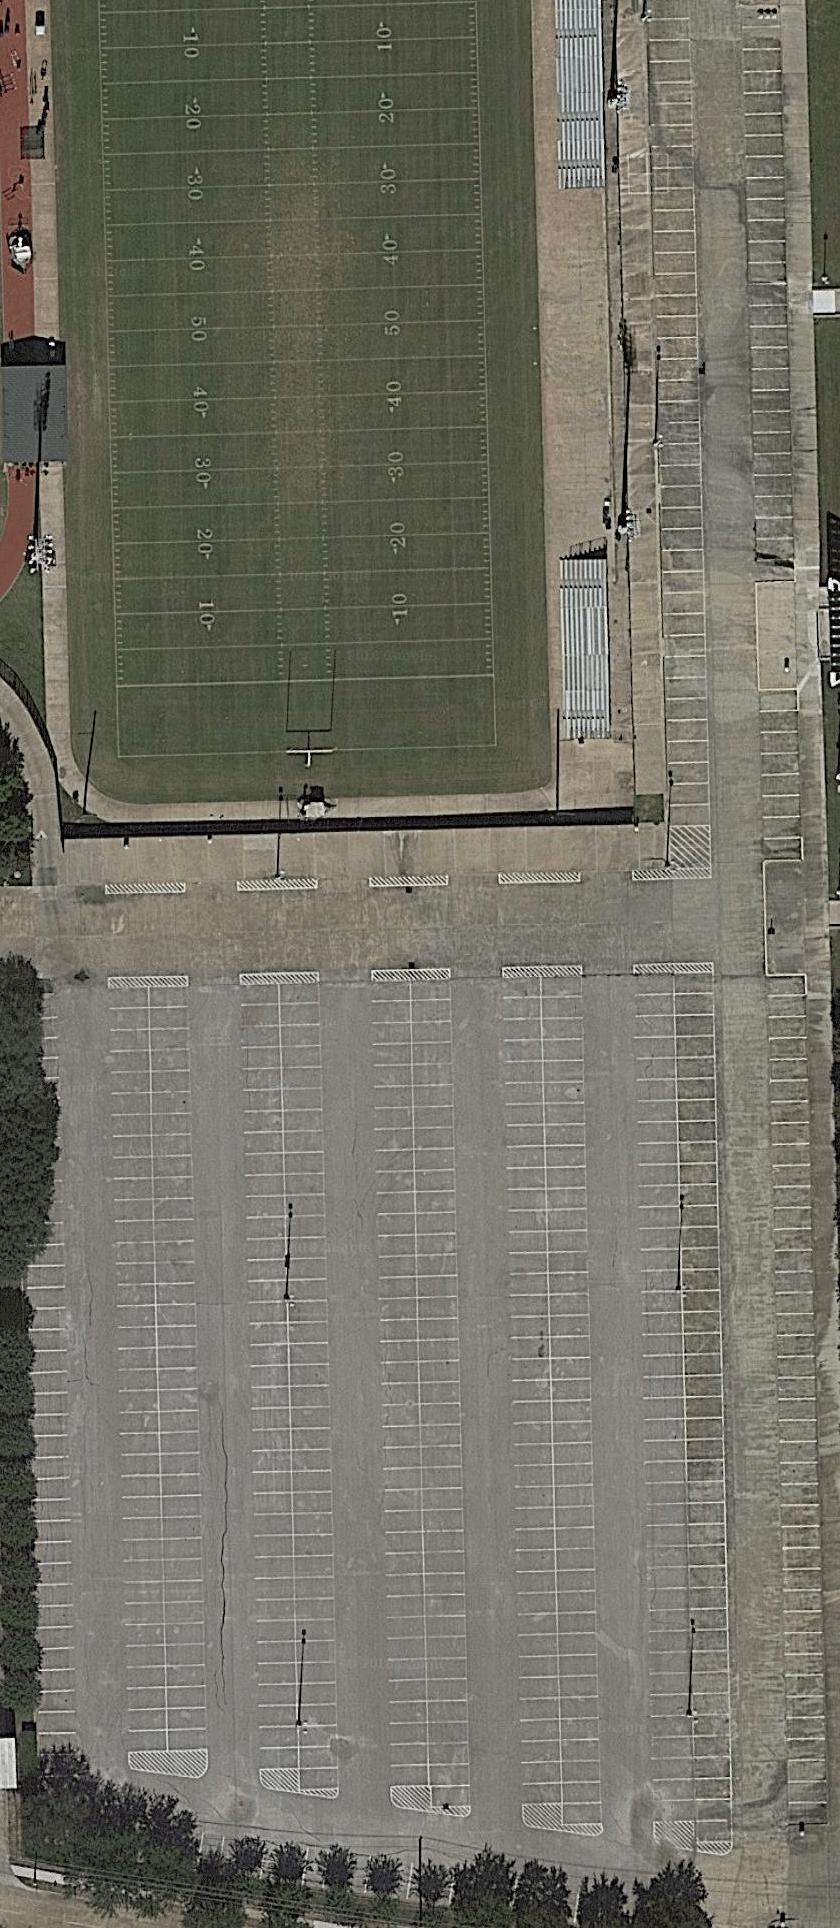parkingspot: (642, 15, 715, 828), (630, 973, 697, 1823), (764, 973, 830, 1828), (672, 971, 735, 1844), (540, 973, 605, 1827), (501, 975, 565, 1806), (410, 978, 473, 1809), (368, 979, 430, 1789), (277, 981, 339, 1792), (239, 982, 301, 1771), (148, 985, 212, 1753), (107, 986, 168, 1753), (735, 2, 797, 584), (22, 1220, 85, 1780), (754, 686, 806, 864)
